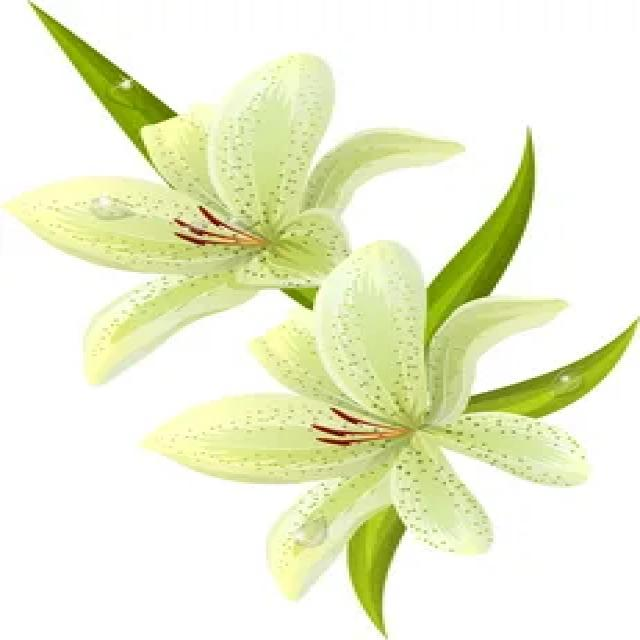lily: (130, 236, 640, 618)
